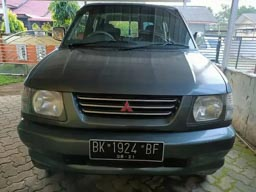plat: (89, 139, 164, 154)
